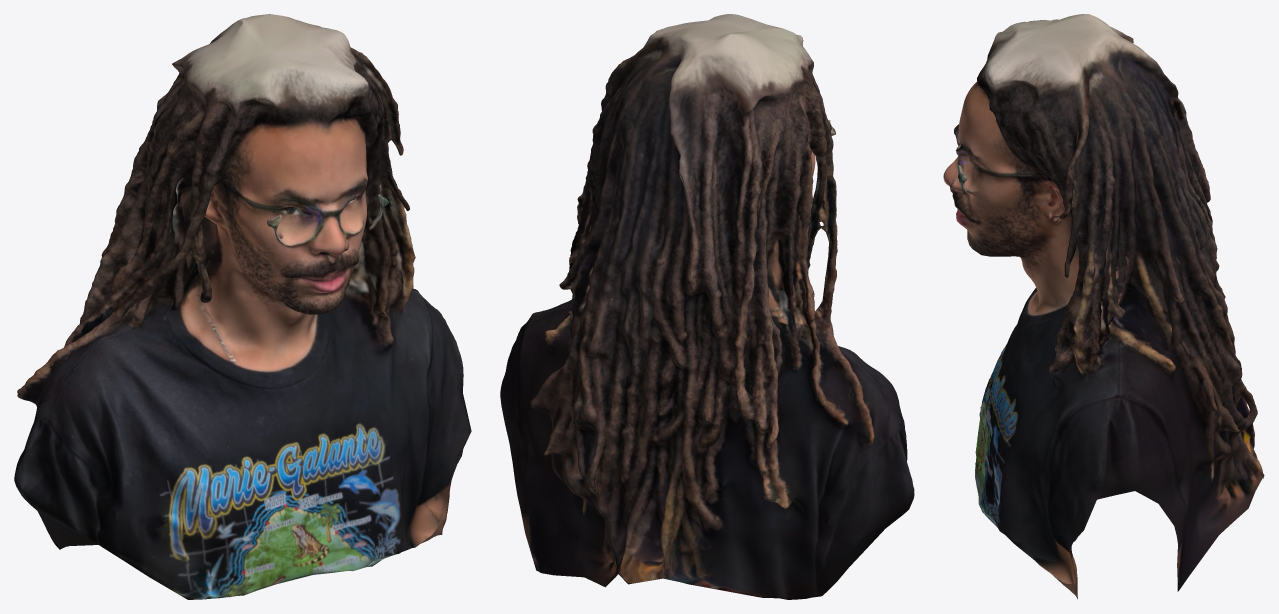
The model's file is buste3d.glb.
3 renders of one model, left to right at view 1: azimuth 30°, elevation 25°; view 2: azimuth 150°, elevation 25°; view 3: azimuth 270°, elevation 25°, orthographic. The views are drawn at different scales.
Parts seen in each view (by area): view 1: 3DModel; view 2: 3DModel; view 3: 3DModel.
Boxes of the visible parts, left/top/right/bottom form: 3DModel: left=14, top=14, right=471, bottom=599; 3DModel: left=500, top=14, right=914, bottom=599; 3DModel: left=943, top=14, right=1264, bottom=599.
Size of the model in its own units: 1.12 by 1.38 by 0.7871.
Materials: 1 (1 with a texture image).
